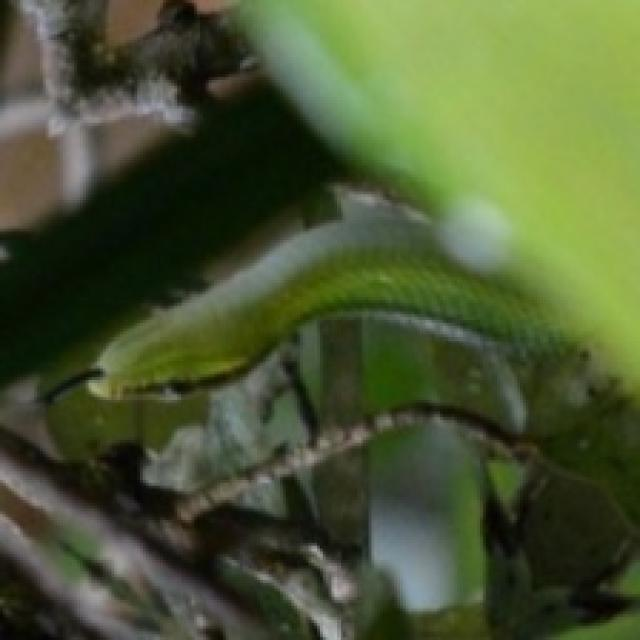red-tailed green ratsnake: (91, 188, 562, 396)
